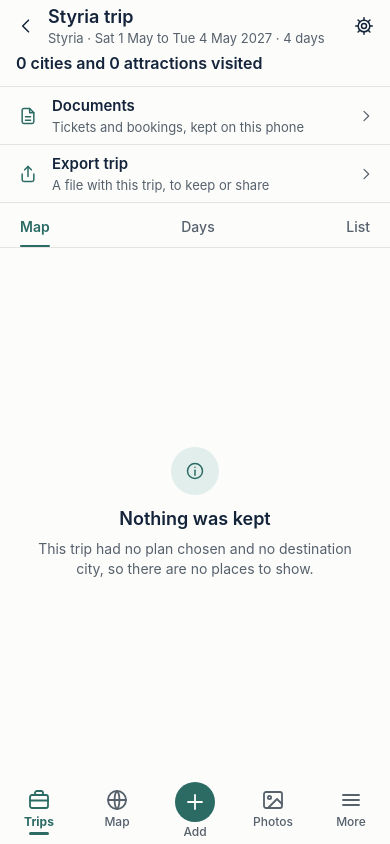
Test: a past trip cannot be added to
This screenshot has width=390, height=844.
Click the button with aria-label "Add to this trip": (195, 811) [156,782,234,840]
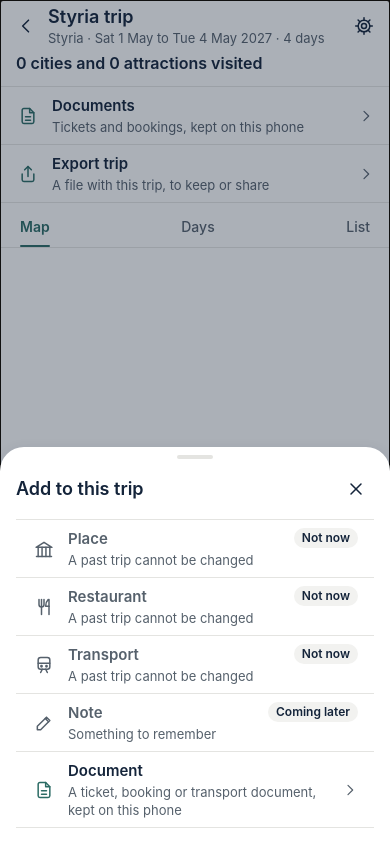
Expected: the button with aria-label "Place. A past trip cannot be changed." is shown, [16,520,374,578]
